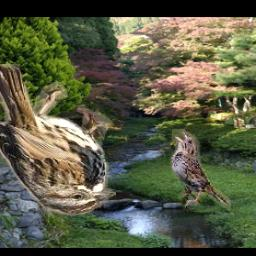Sparrow: (0, 65, 116, 217), (170, 130, 232, 228)
